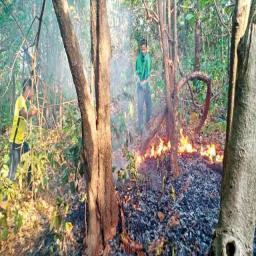Low smoke: (50, 8, 163, 184)
Small fire: (105, 128, 234, 173)
